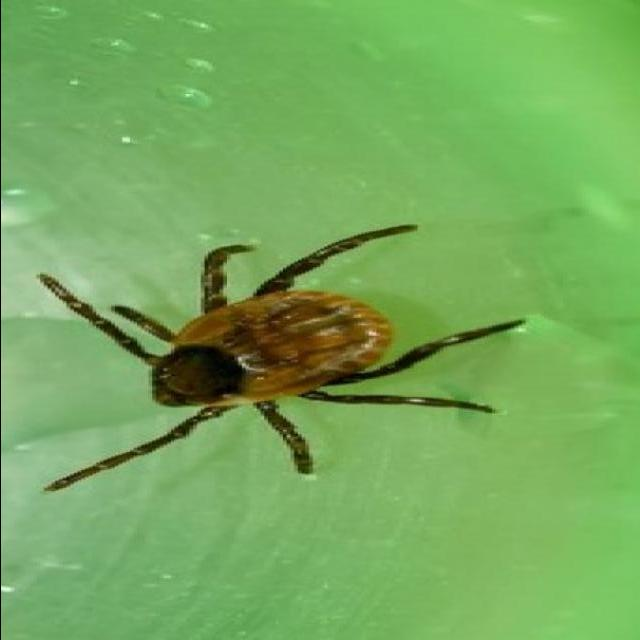Rhipicephalus Sanguineus-F: (43, 230, 491, 489)
